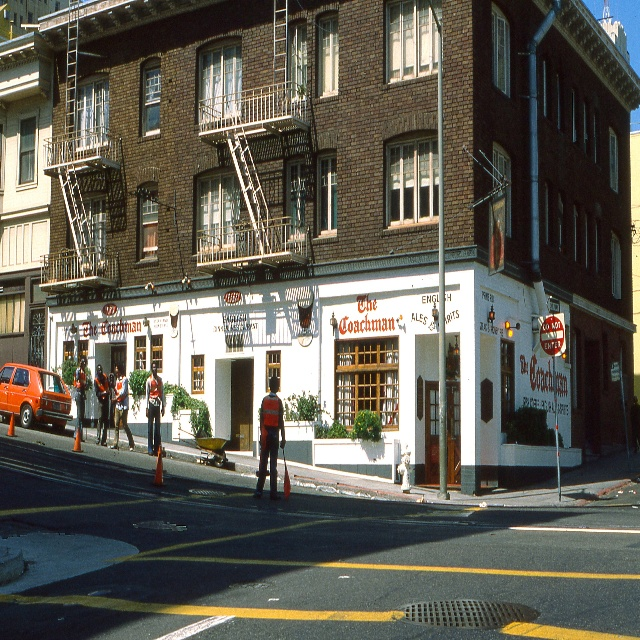Guantes: (111, 397, 117, 404)
Sin_guantes: (160, 406, 164, 417), (146, 408, 149, 418)
